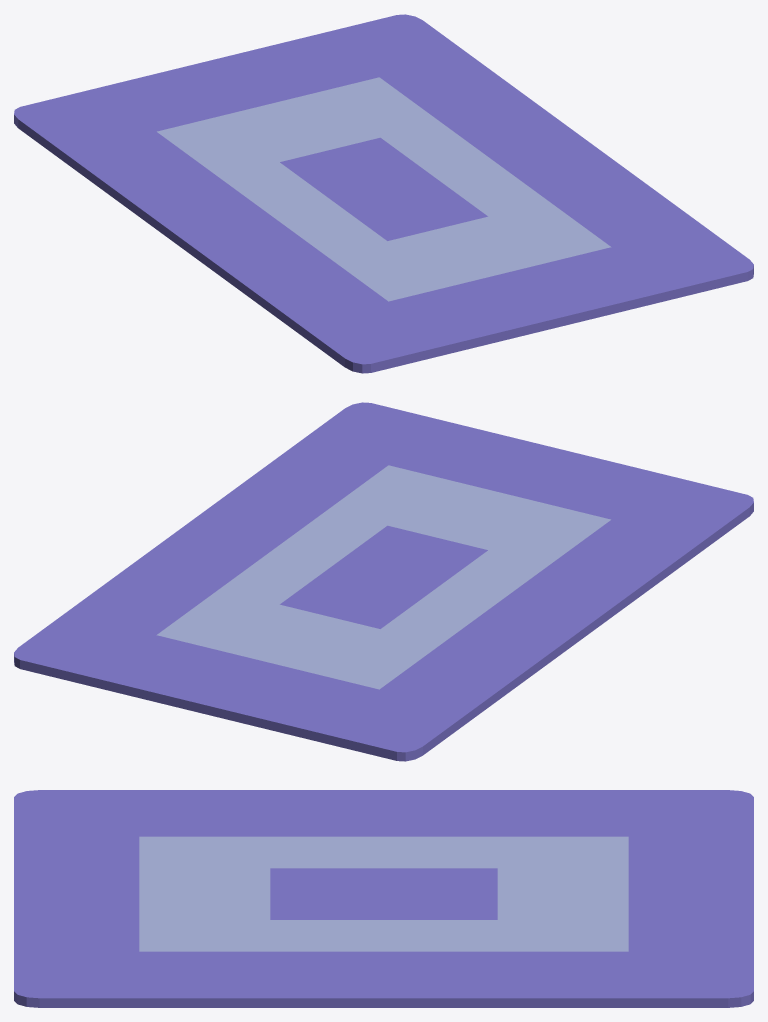
File: Carpet_06.fbx
The picture shows the model from 3 angles, top to bottom: view 1: azimuth 30°, elevation 25°; view 2: azimuth 150°, elevation 25°; view 3: azimuth 270°, elevation 25°; orthographic projection. The views are drawn at different scales.
Visible parts, largest first — view 1: Carpet_06; view 2: Carpet_06; view 3: Carpet_06.
Part boxes in pixels (x1,y1,x2,y2): Carpet_06: (14,14,753,373); Carpet_06: (14,402,753,761); Carpet_06: (14,790,753,1007).
Size of the model in its own units: 63.68 by 1.38 by 95.64.
